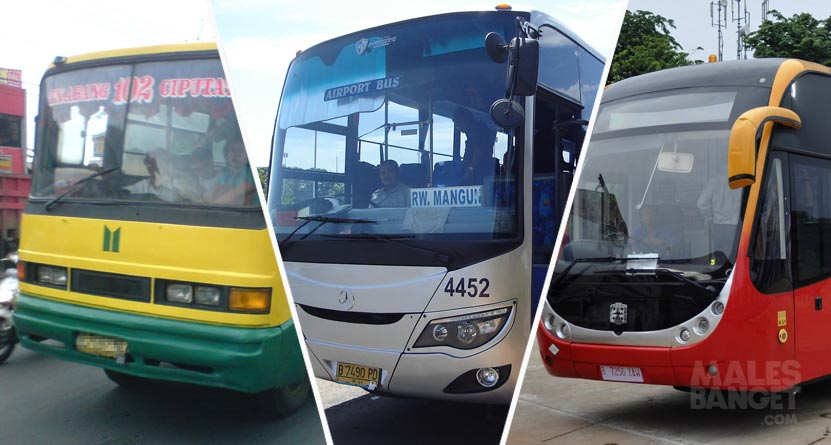plate: (332, 362, 380, 384), (81, 332, 121, 353), (600, 367, 639, 383)
